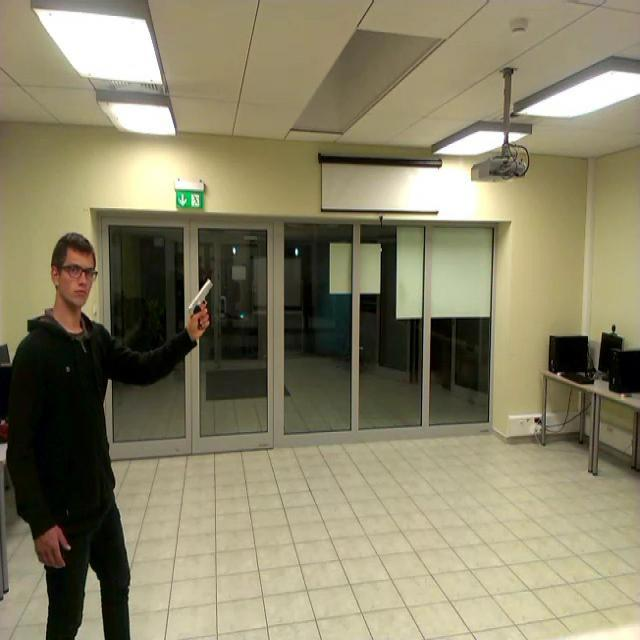weapon: (185, 280, 212, 333)
